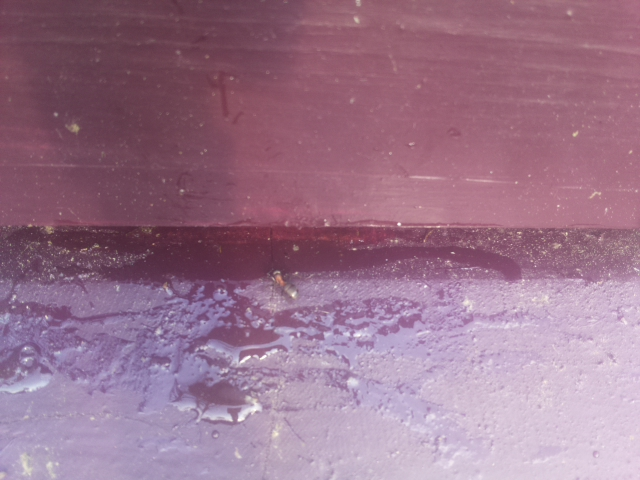ant: (0, 343, 52, 390), (262, 261, 306, 309)
